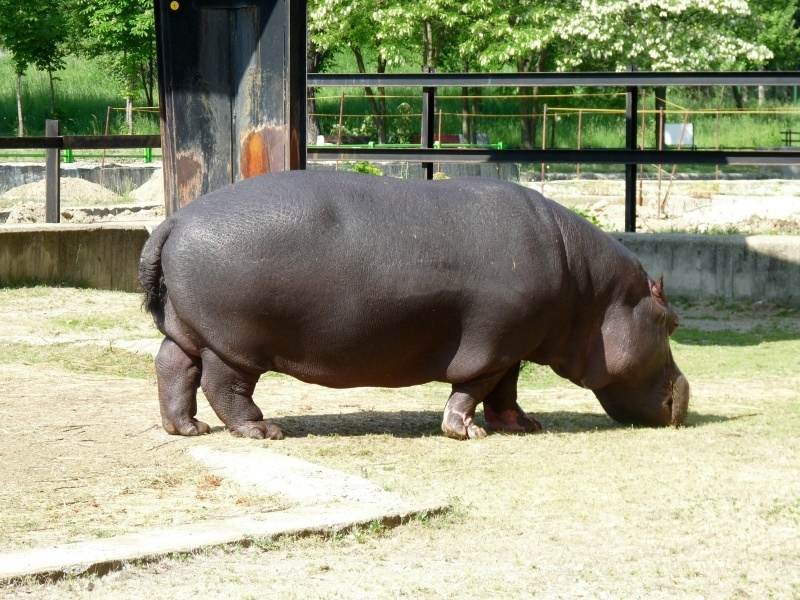hipopotamo: (130, 164, 697, 450)
